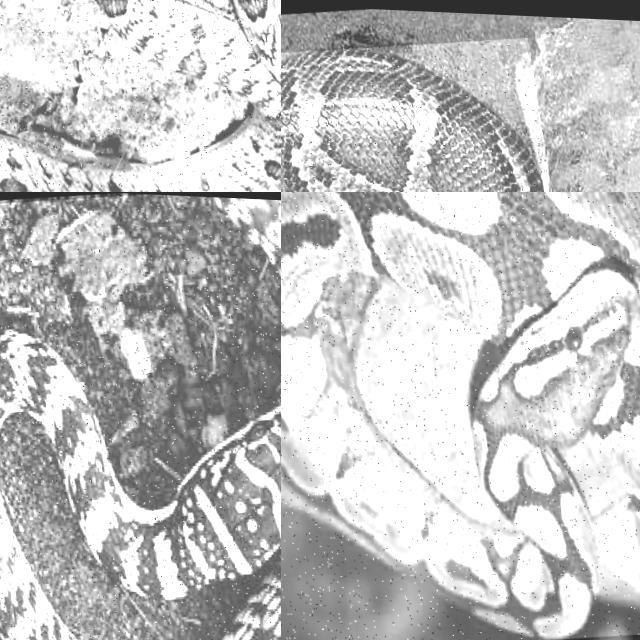Calloselasma rhodostoma: (0, 0, 280, 191)
Chrysopelea ornata: (0, 333, 280, 597)
Python bivittatus: (281, 192, 639, 638), (281, 49, 541, 191)
